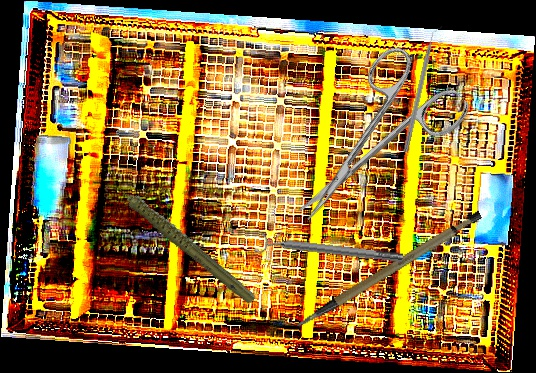Chopper: (402, 23, 445, 155)
Fixation Ring: (254, 229, 404, 271)
Handpiece: (107, 147, 258, 329)
Iris Scissors: (262, 35, 475, 250)
Scalpel Handle: (282, 208, 494, 329)
